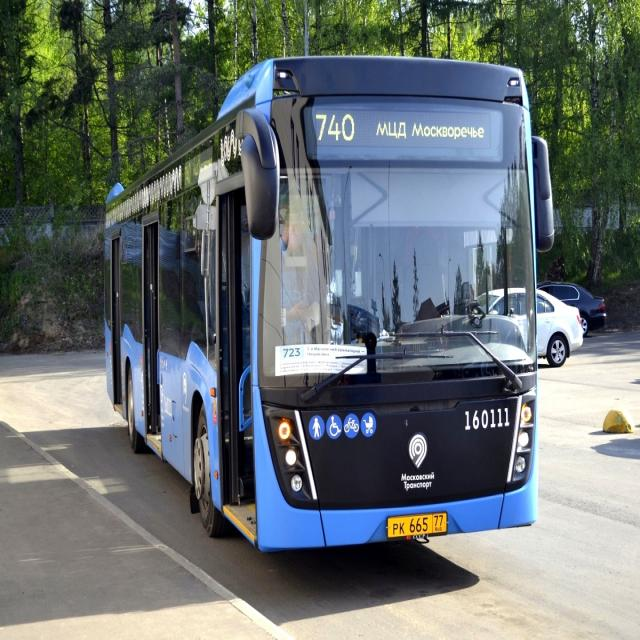number-of-bus: (315, 108, 358, 147)
